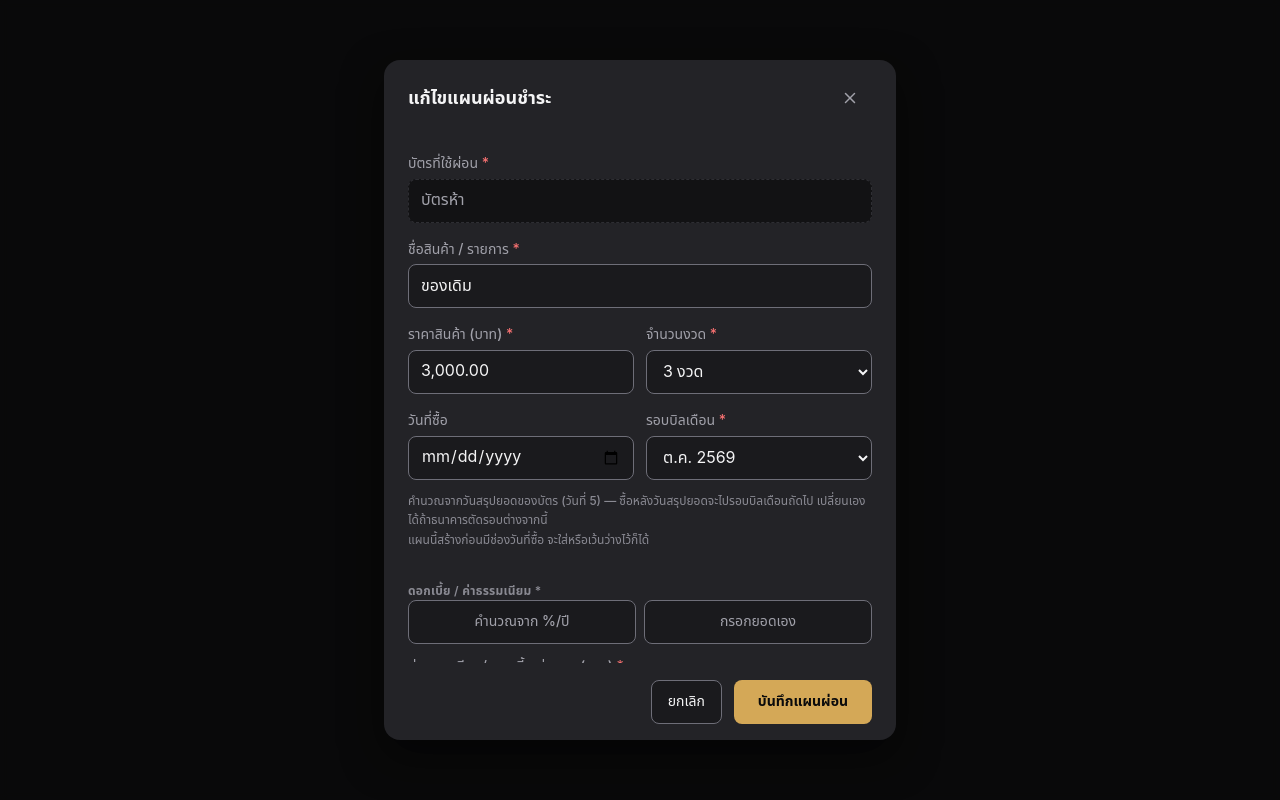
Test: InstallmentPlanForm — editing an existing plan › back-filling a date on a legacy unpaid plan recomputes startMonth
The image size is (1280, 800).
Expected: the dropdown named "startMonth" shows "ต.ค. 2569", [646, 436, 872, 480]
Type "2026-10-20" into the date field named "purchaseDate" at [521, 458], box [408, 436, 634, 480]
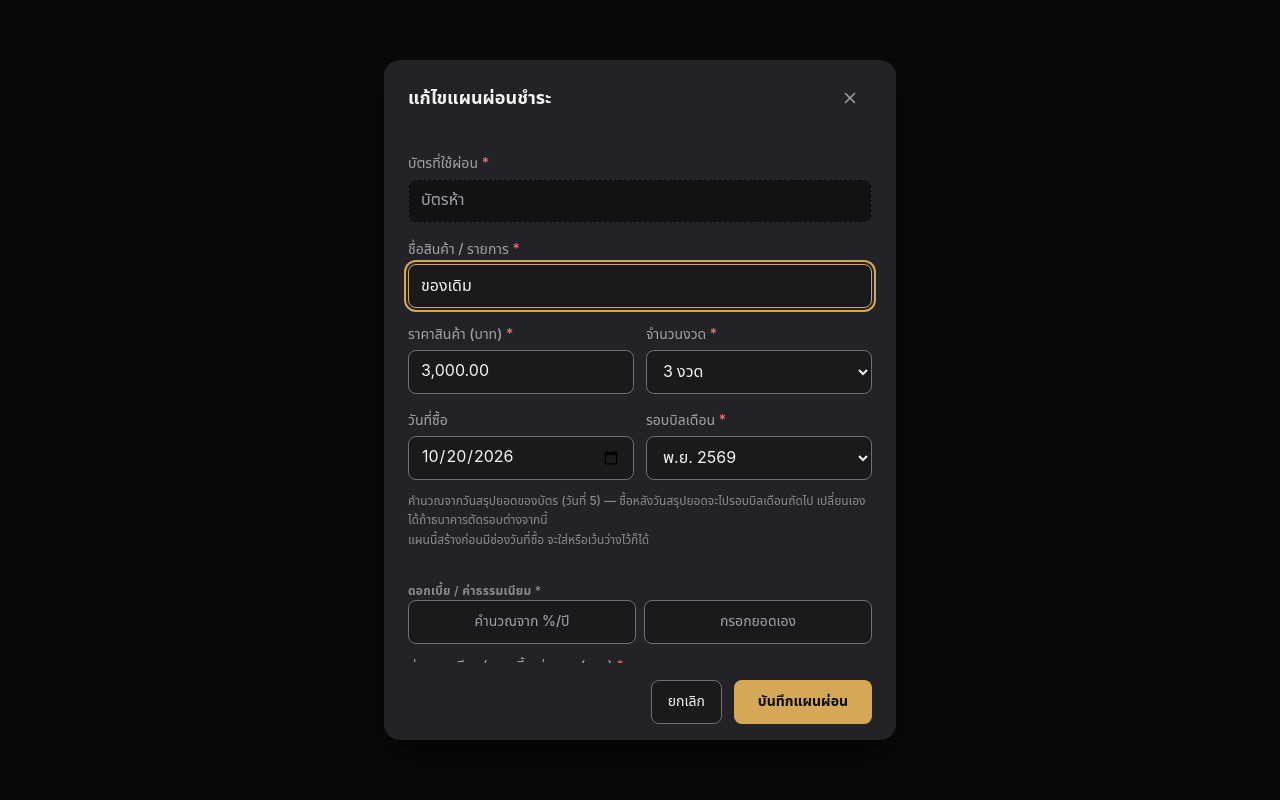
Expected: the dropdown named "startMonth" shows "พ.ย. 2569", [646, 436, 872, 480]
